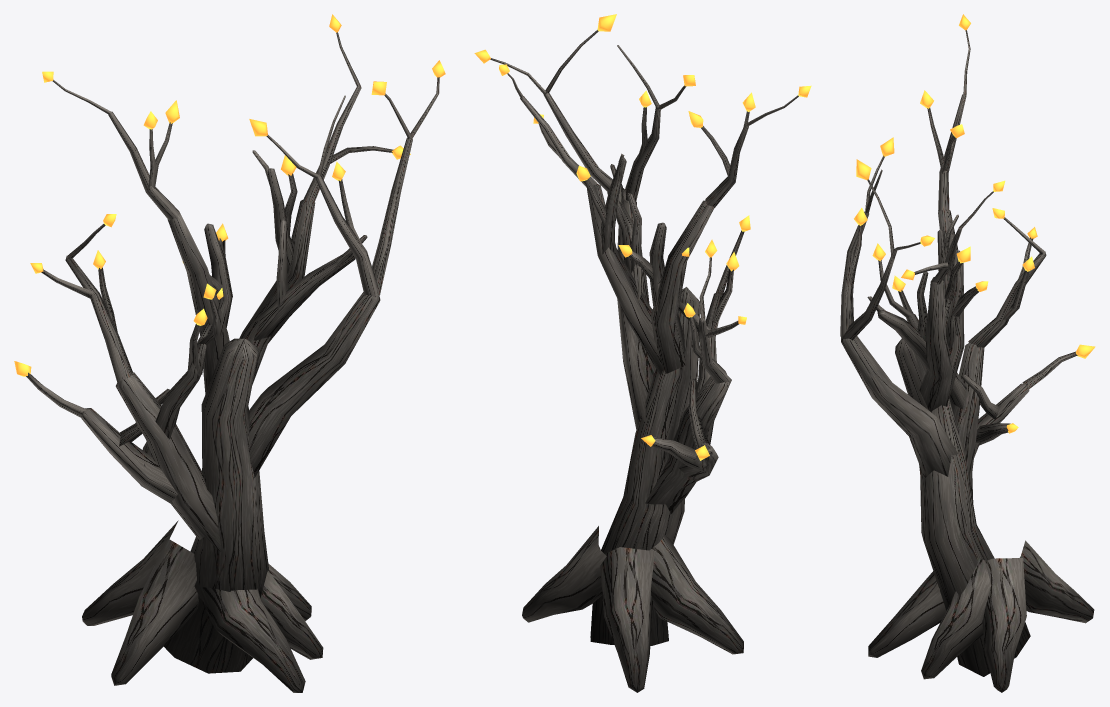
File: tree_dead_a.glb
3 views of the same model, side by side, from view 1: azimuth 30°, elevation 25°; view 2: azimuth 150°, elevation 25°; view 3: azimuth 270°, elevation 25° (orthographic). The views are drawn at different scales.
Parts seen in each view (by area): view 1: tree_dead_a; view 2: tree_dead_a; view 3: tree_dead_a.
Boxes of the visible parts, x1,y1,x2,y2 form: tree_dead_a: (14,14,445,692); tree_dead_a: (474,14,811,692); tree_dead_a: (840,14,1095,692).
Bounding box in the file's own units: 2.36 × 3.82 × 1.56.
Materials: 2 (1 with a texture image).
